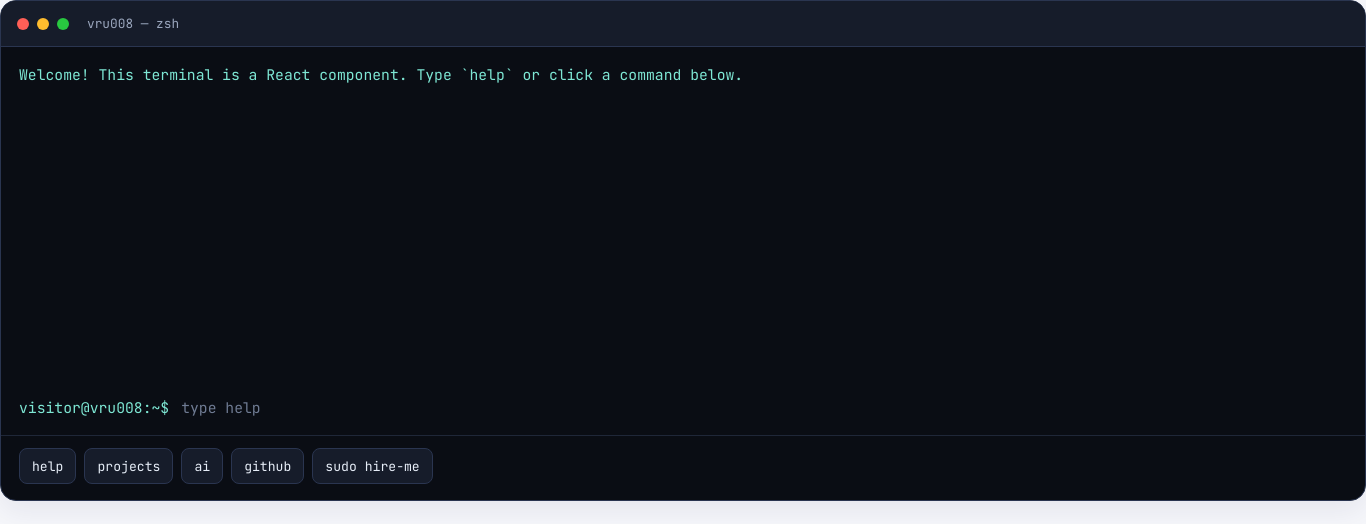
<Terminal /> › recalls history with the up arrow and autocompletes with Tab
The width and height of the screenshot is (1366, 524).
Step 1. Type "about" into the field named "Terminal command" → (763, 408), box [179,395,1347,421]
Then press Enter, Arrowup
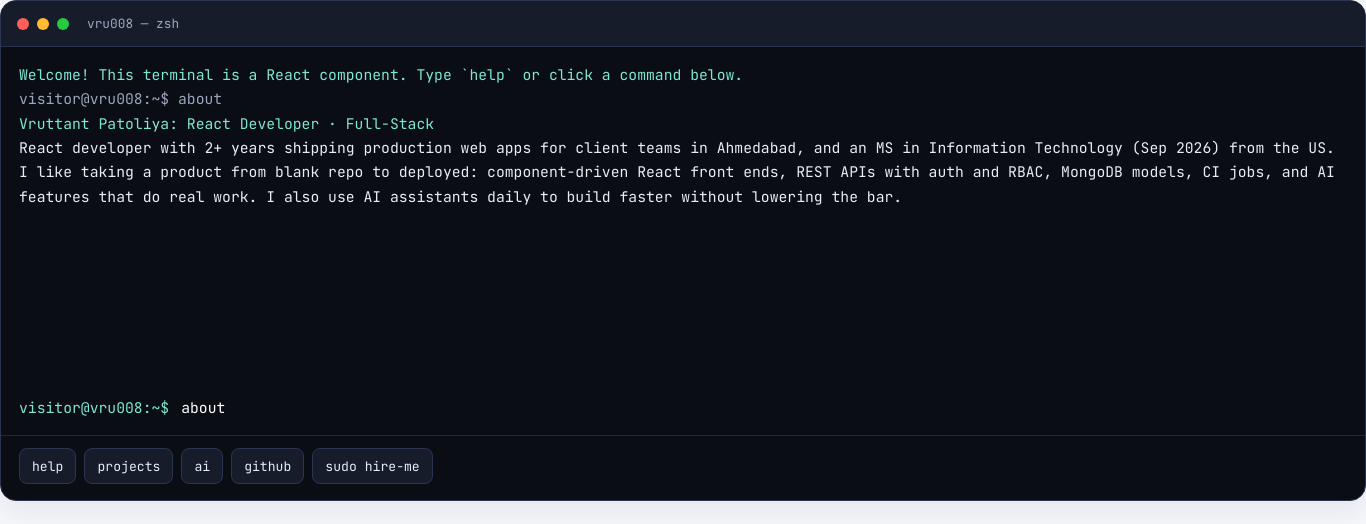
Step 2. Replace the text in the field named "Terminal command" with "expe" → (763, 408), box [179,395,1347,421]
Then press Tab
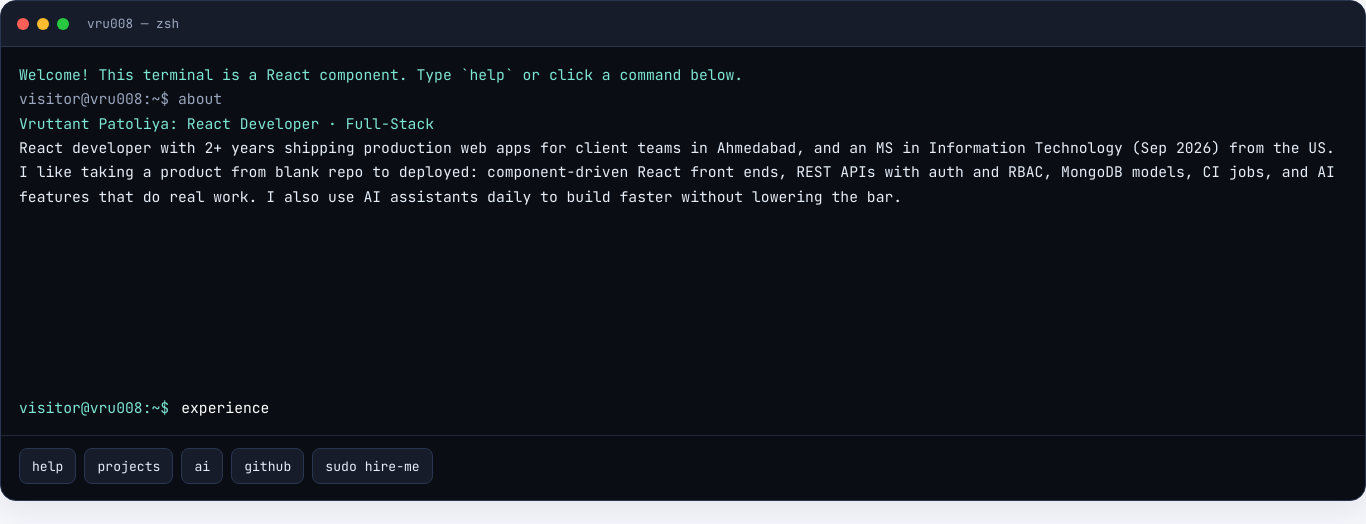
Now the field named "Terminal command" holds "experience", box [179,395,1347,421]
